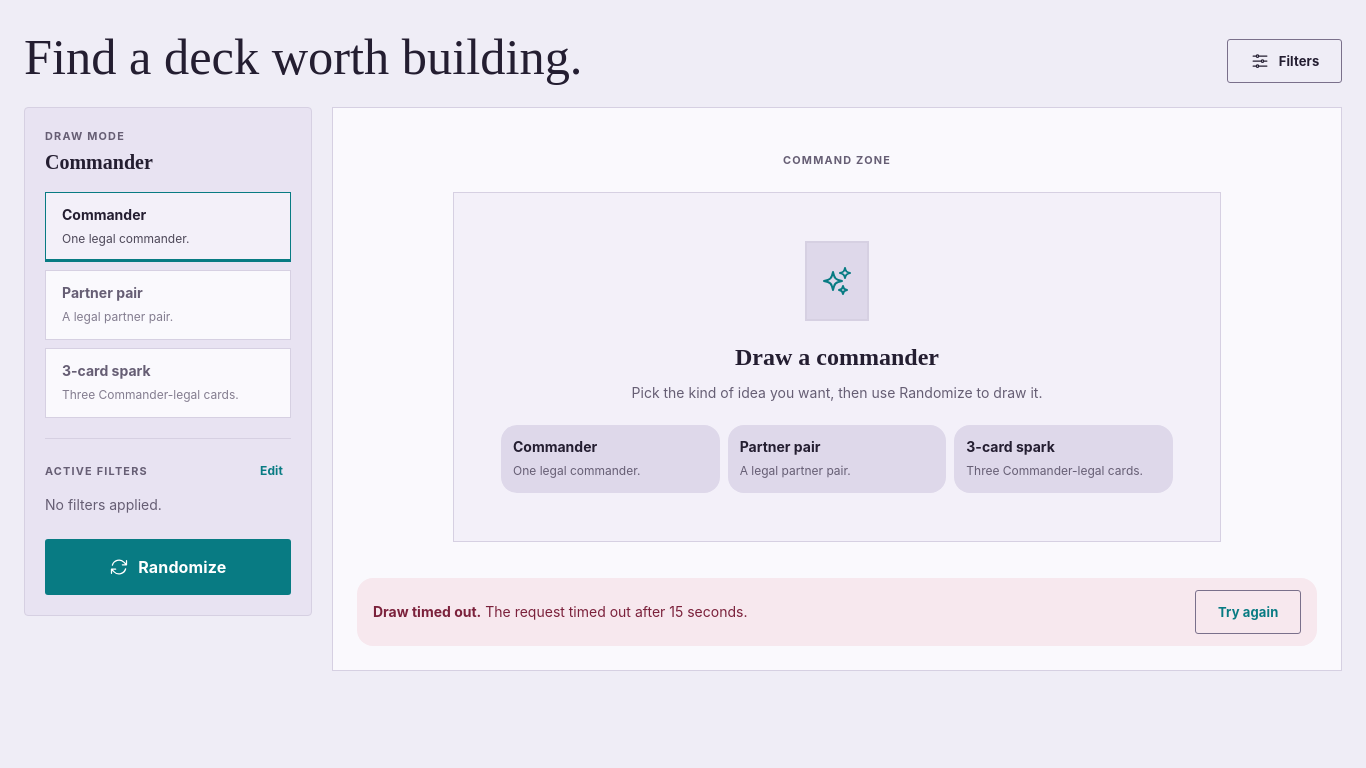
Scenario: Draw recovery messaging › distinguishes a timeout and offers a new draw
Expected: the message shows "Draw timed out.", [373, 603, 481, 620]
Expected: the message shows "The request timed out after 15 seconds.", [485, 603, 748, 620]
What coordinates should you click on to do the following:
click the button "Try again"
I would click on:
 (1248, 612)
Its box is [1195, 590, 1301, 634].
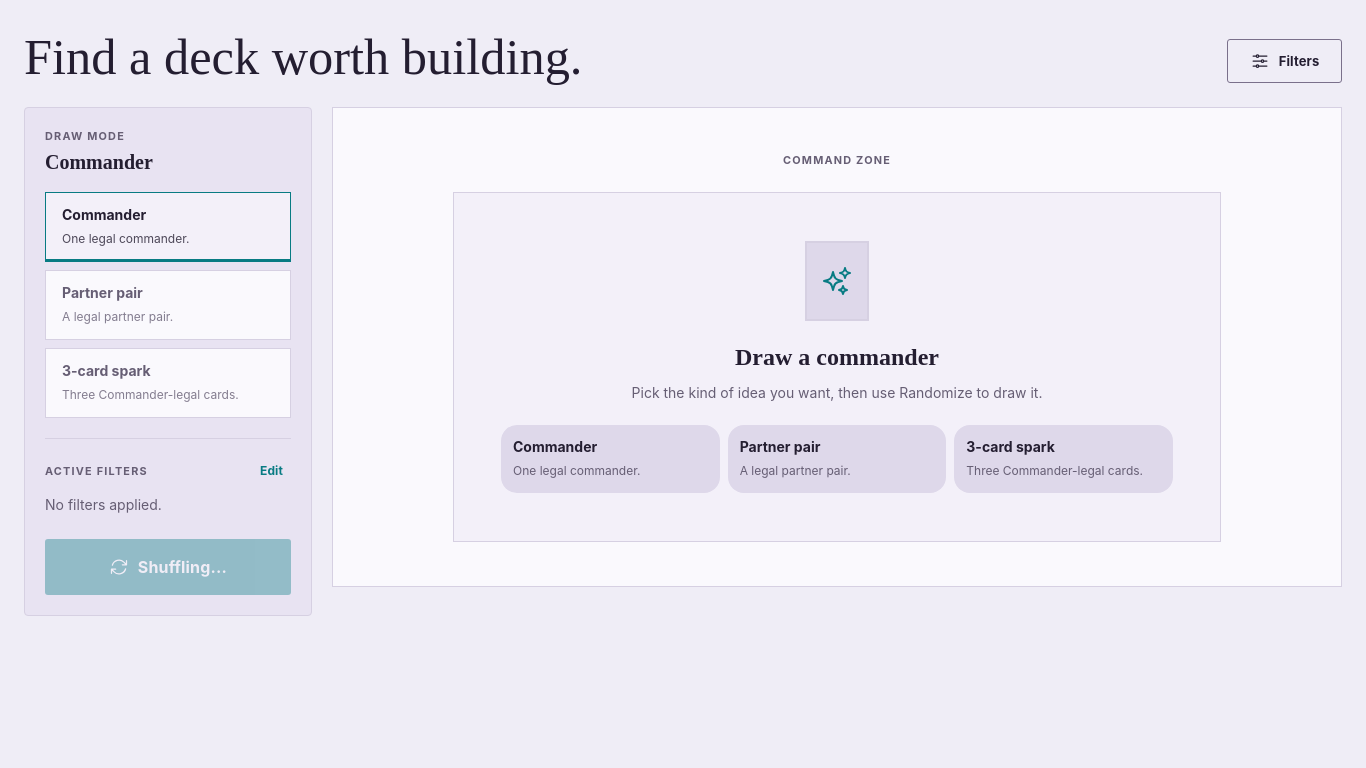
Now the button named "randomize" is disabled, box [45, 539, 291, 595]
Now the button named "randomize" reads "Shuffling...", box [45, 539, 291, 595]
